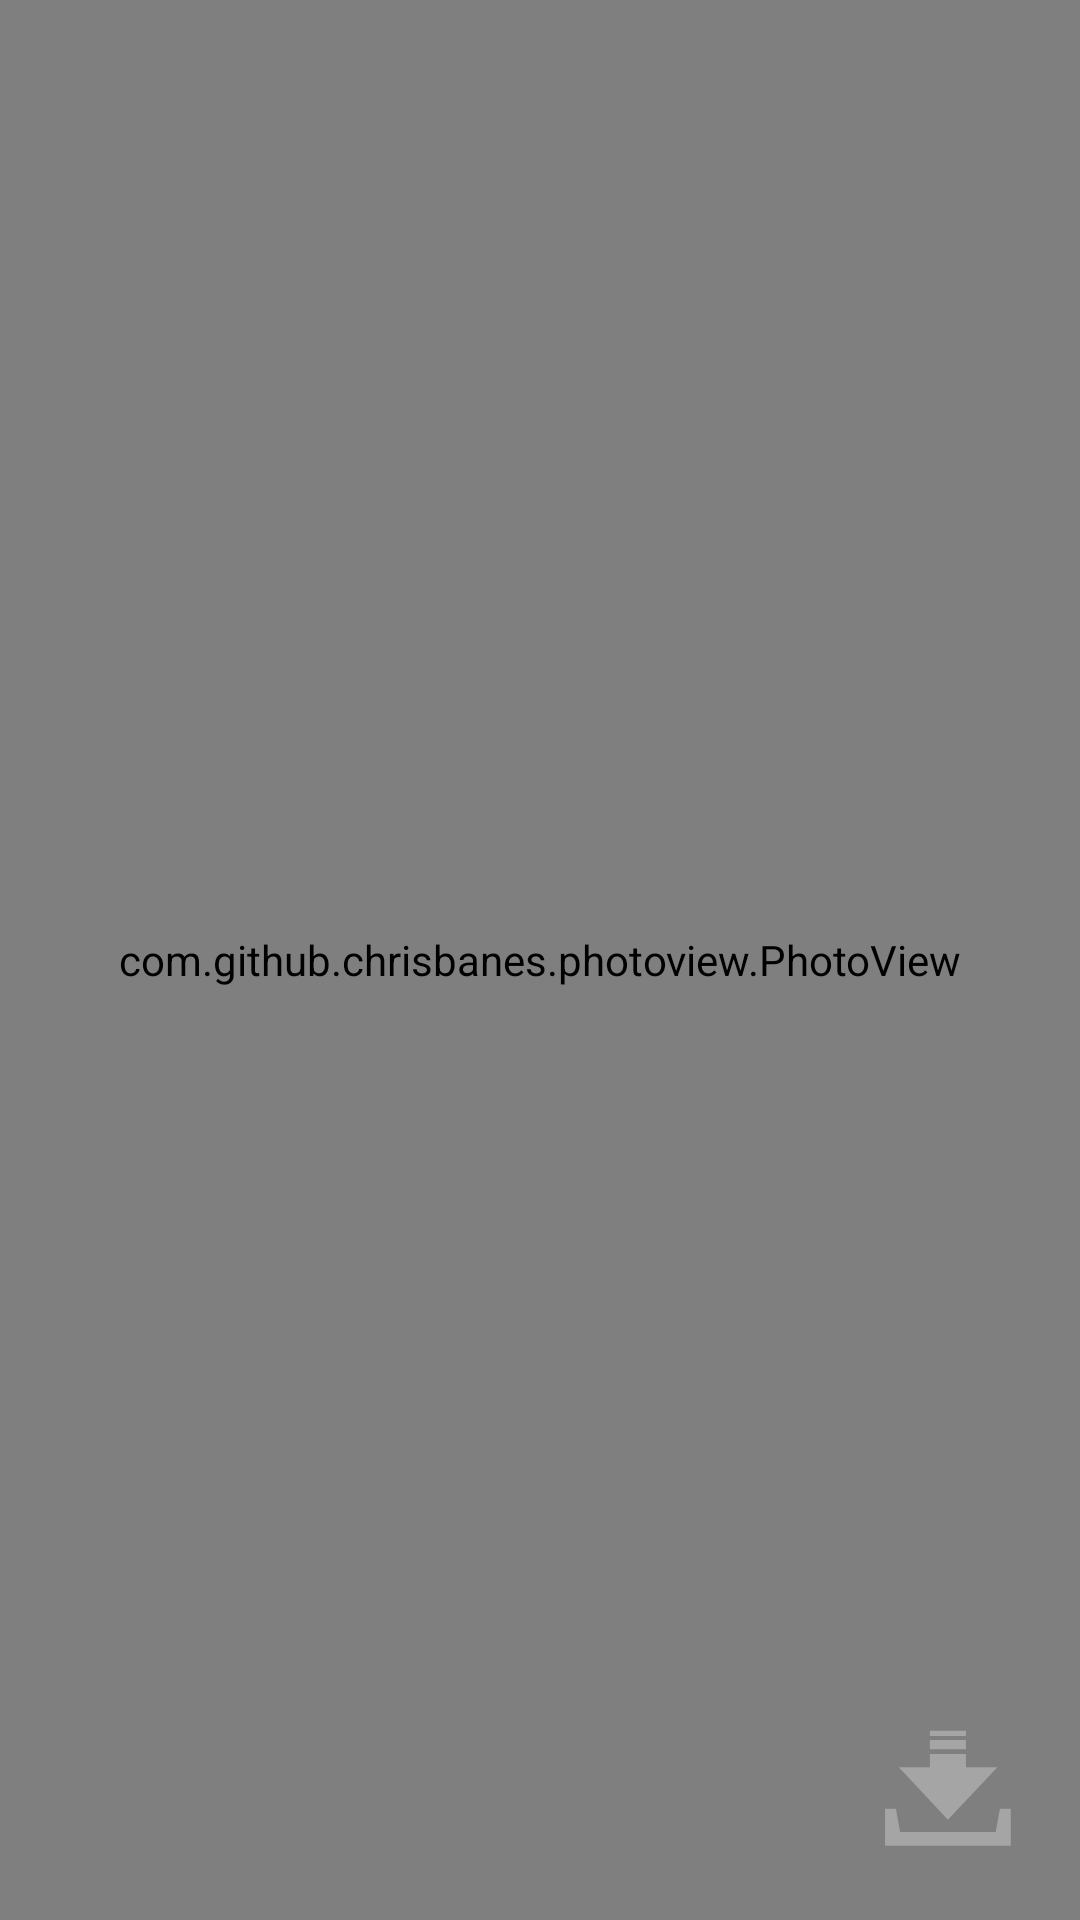

Icons on this 1080px x 1920px Android screen, each with its box as (left=x1, top=y1, right=x2, bottom=y2):
down: (left=885, top=1731, right=1011, bottom=1846)
